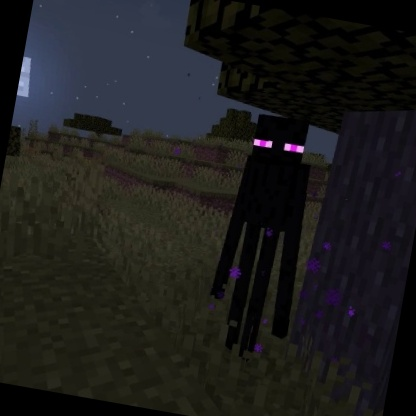enderman: (194, 105, 328, 371)
